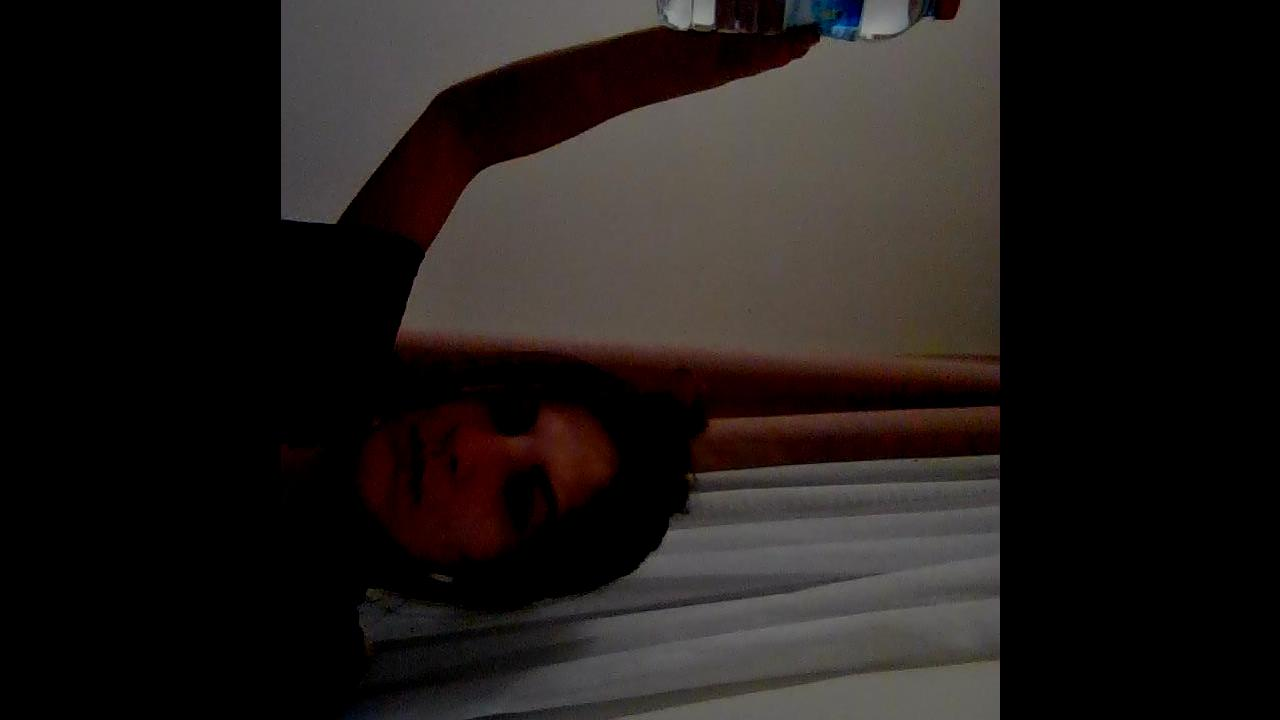bottle: (657, 0, 969, 36)
